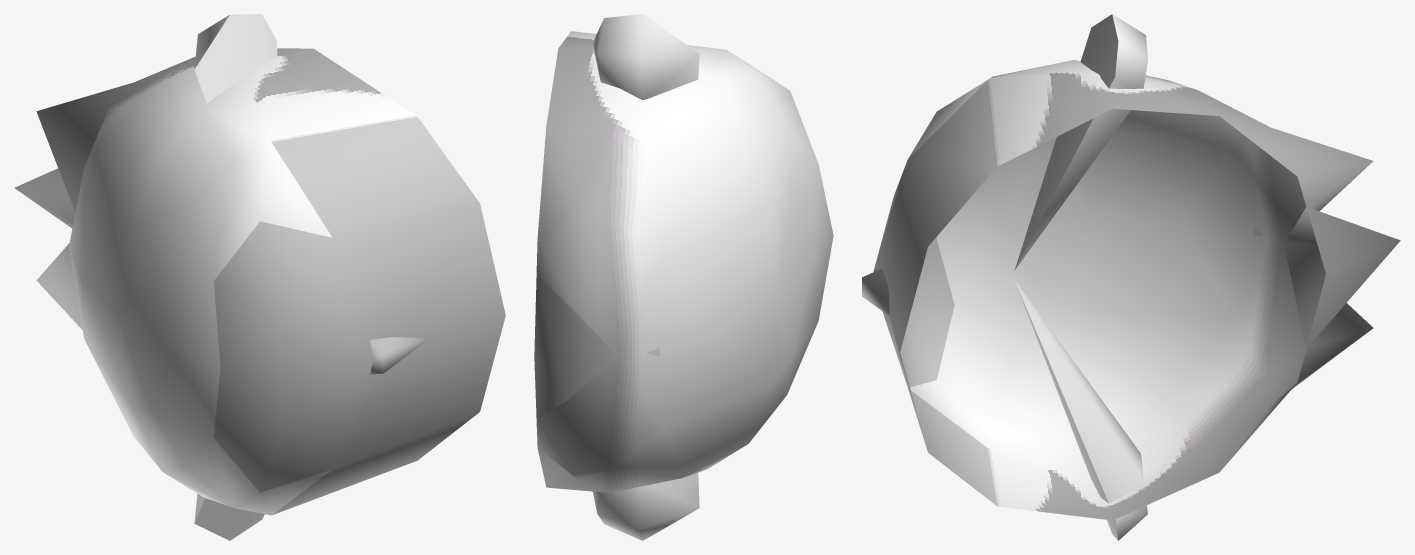
The model's file is boy05b.dae.
3 renders of one model, left to right at view 1: azimuth 30°, elevation 25°; view 2: azimuth 150°, elevation 25°; view 3: azimuth 270°, elevation 25°, orthographic.
Visible parts, largest first — view 1: vsn_mesh_1_, vsn_mesh_0_, vsn_mesh_2_; view 2: vsn_mesh_1_; view 3: vsn_mesh_1_, vsn_mesh_0_, vsn_mesh_2_.
Part boxes in pixels (x1=…): vsn_mesh_1_: x1=14, y1=14, x2=416, y2=540; vsn_mesh_0_: x1=271, y1=116, x2=505, y2=515; vsn_mesh_2_: x1=213, y1=221, x2=360, y2=492; vsn_mesh_1_: x1=534, y1=14, x2=833, y2=540; vsn_mesh_1_: x1=908, y1=14, x2=1400, y2=540; vsn_mesh_0_: x1=862, y1=80, x2=997, y2=505; vsn_mesh_2_: x1=873, y1=161, x2=954, y2=387.
Size of the model in its own units: 15.5 by 26.71 by 25.07.
